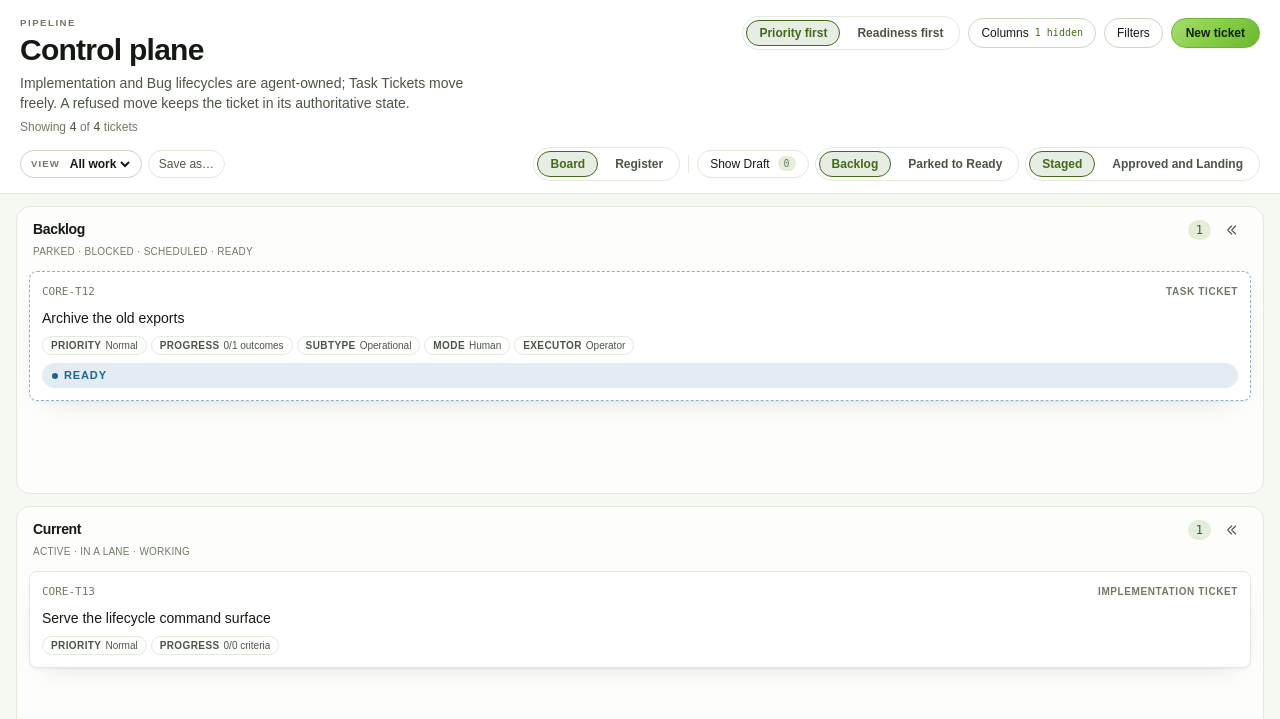
Scenario: the board › stacks the board down the page at narrow width
Click the button with test id "column-collapse-current" at (1231, 530), box top-left (1215, 514), bottom-right (1247, 546)
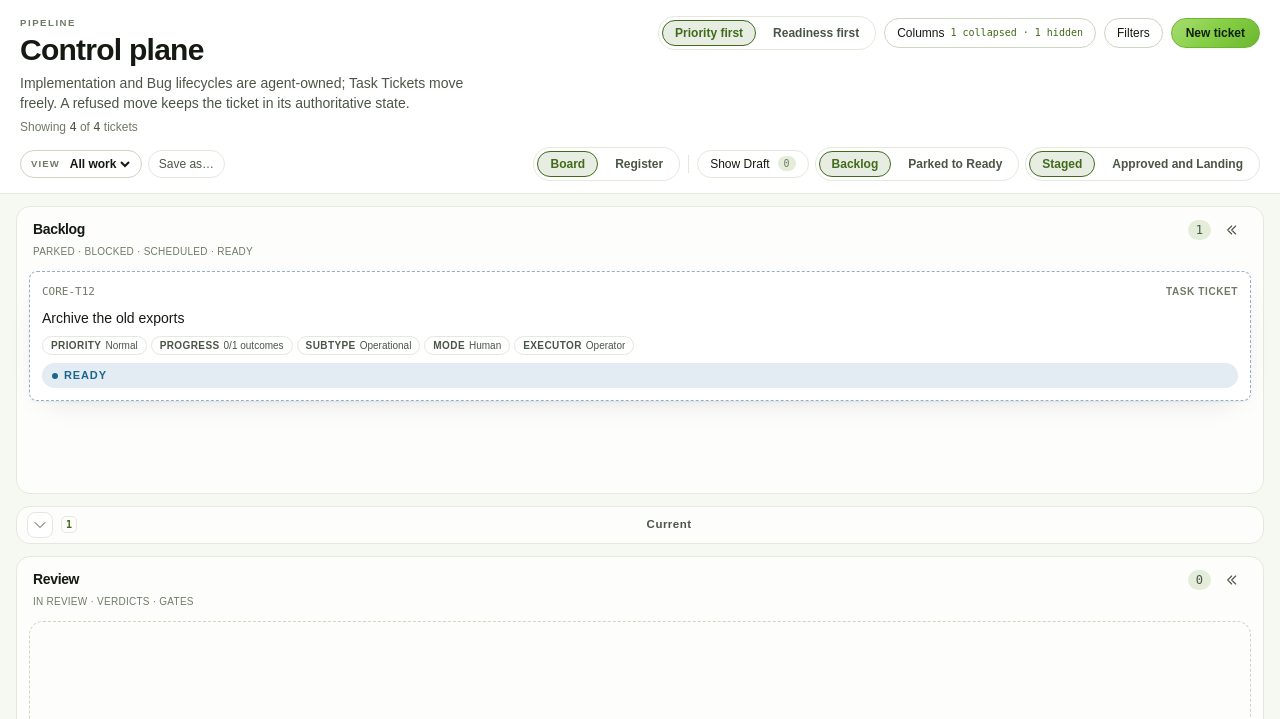
Expected: the text with test id "column-rail-count-current" reads "1", top-left (66, 519), bottom-right (72, 530)
Expected: the element with test id "column-rail-current" shows "Current", top-left (647, 518), bottom-right (691, 530)
